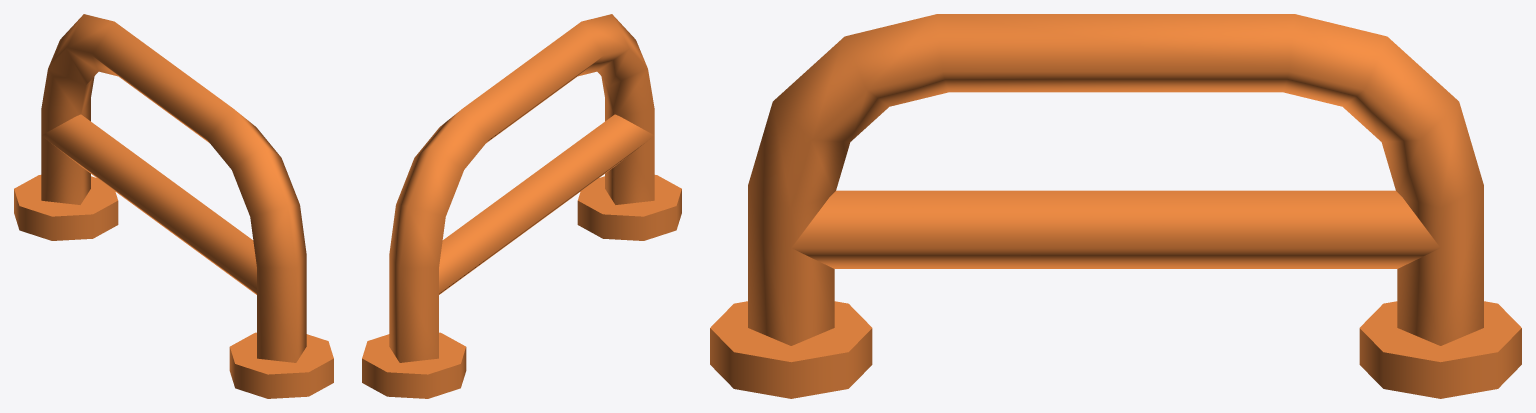
Rendered from ap_valla.glb.
3 views of the same model, side by side, from view 1: azimuth 30°, elevation 25°; view 2: azimuth 150°, elevation 25°; view 3: azimuth 270°, elevation 25° (orthographic). The views are drawn at different scales.
Visible parts, largest first — view 1: construction-fence; view 2: construction-fence; view 3: construction-fence.
Boxes of the visible parts, x1,y1,x2,y2 form: construction-fence: [14, 14, 333, 398]; construction-fence: [362, 14, 681, 398]; construction-fence: [710, 14, 1521, 398].
Size of the model in its own units: 0.525 by 1.25 by 2.63.
